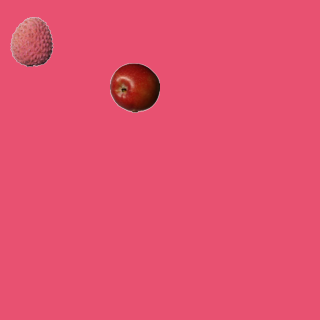Apple Braeburn: (109, 62, 159, 112)
Lychee: (6, 16, 56, 66)
